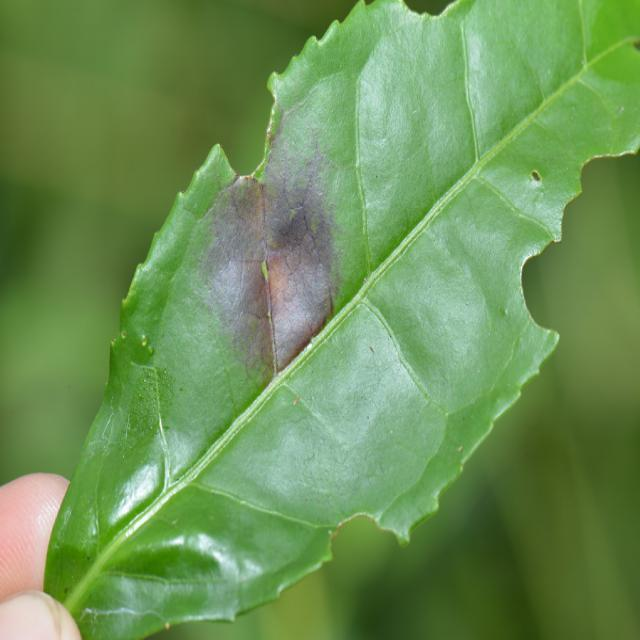Tea exobasidium blight: (200, 164, 364, 374)
